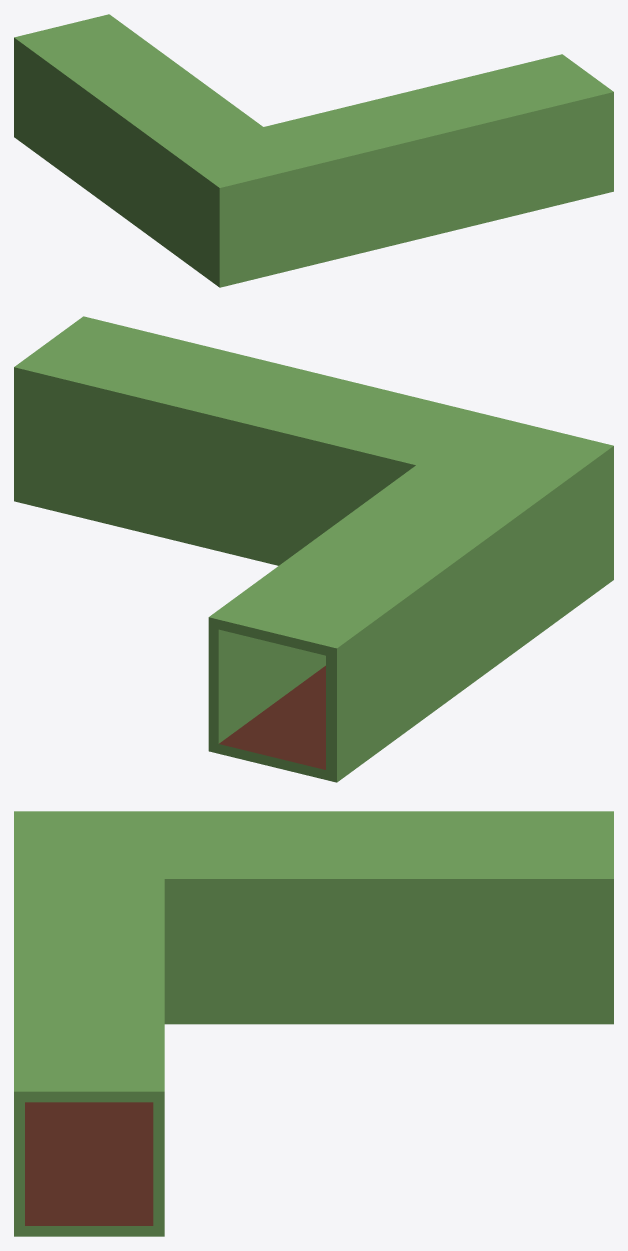
Rendered from ConnectedCorridor.fbx.
3 renders of one model, top to bottom at view 1: azimuth 30°, elevation 25°; view 2: azimuth 150°, elevation 25°; view 3: azimuth 270°, elevation 25°, orthographic. The views are drawn at different scales.
Visible parts, largest first — view 1: Connected Corridor; view 2: Connected Corridor; view 3: Connected Corridor.
Boxes of the visible parts, bbox=[...] form: Connected Corridor: bbox=[14, 14, 613, 287]; Connected Corridor: bbox=[14, 316, 613, 782]; Connected Corridor: bbox=[14, 811, 613, 1236].
Size of the model in its own units: 2796 by 676 by 2529.
